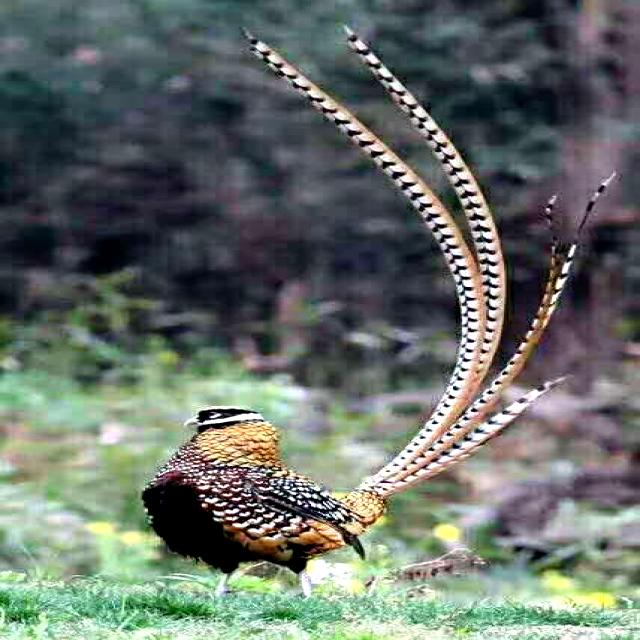Reeves-s Pheasant: (243, 23, 617, 498)
